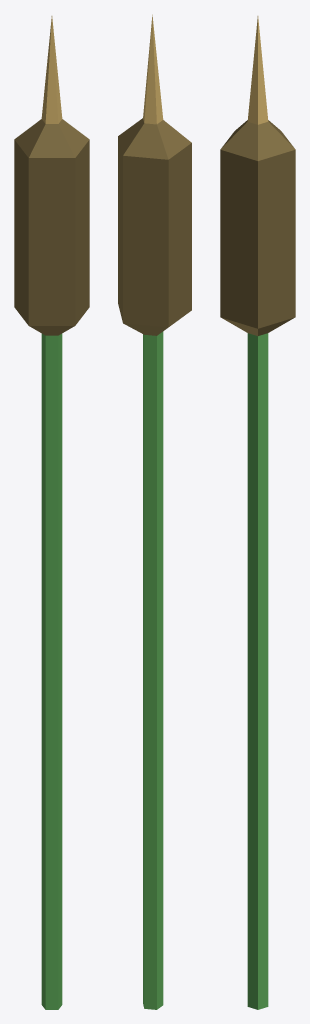
File: Cattail.obj
3 renders of one model, left to right at view 1: azimuth 90°, elevation 25°; view 2: azimuth 150°, elevation 25°; view 3: azimuth 270°, elevation 25°, orthographic.
Visible parts, largest first — view 1: pCylinder1 Cattail; view 2: pCylinder1 Cattail; view 3: pCylinder1 Cattail.
Boxes of the visible parts, x1,y1,x2,y2 form: pCylinder1 Cattail: (14,16,89,1009); pCylinder1 Cattail: (118,14,191,1009); pCylinder1 Cattail: (220,16,295,1009).
Bounding box in the file's own units: 5.71 × 87.1 × 6.
